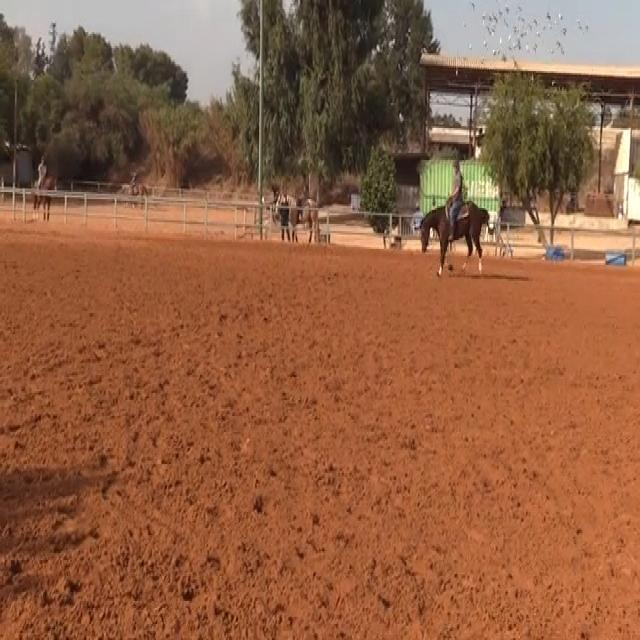horse: (417, 195, 491, 278)
